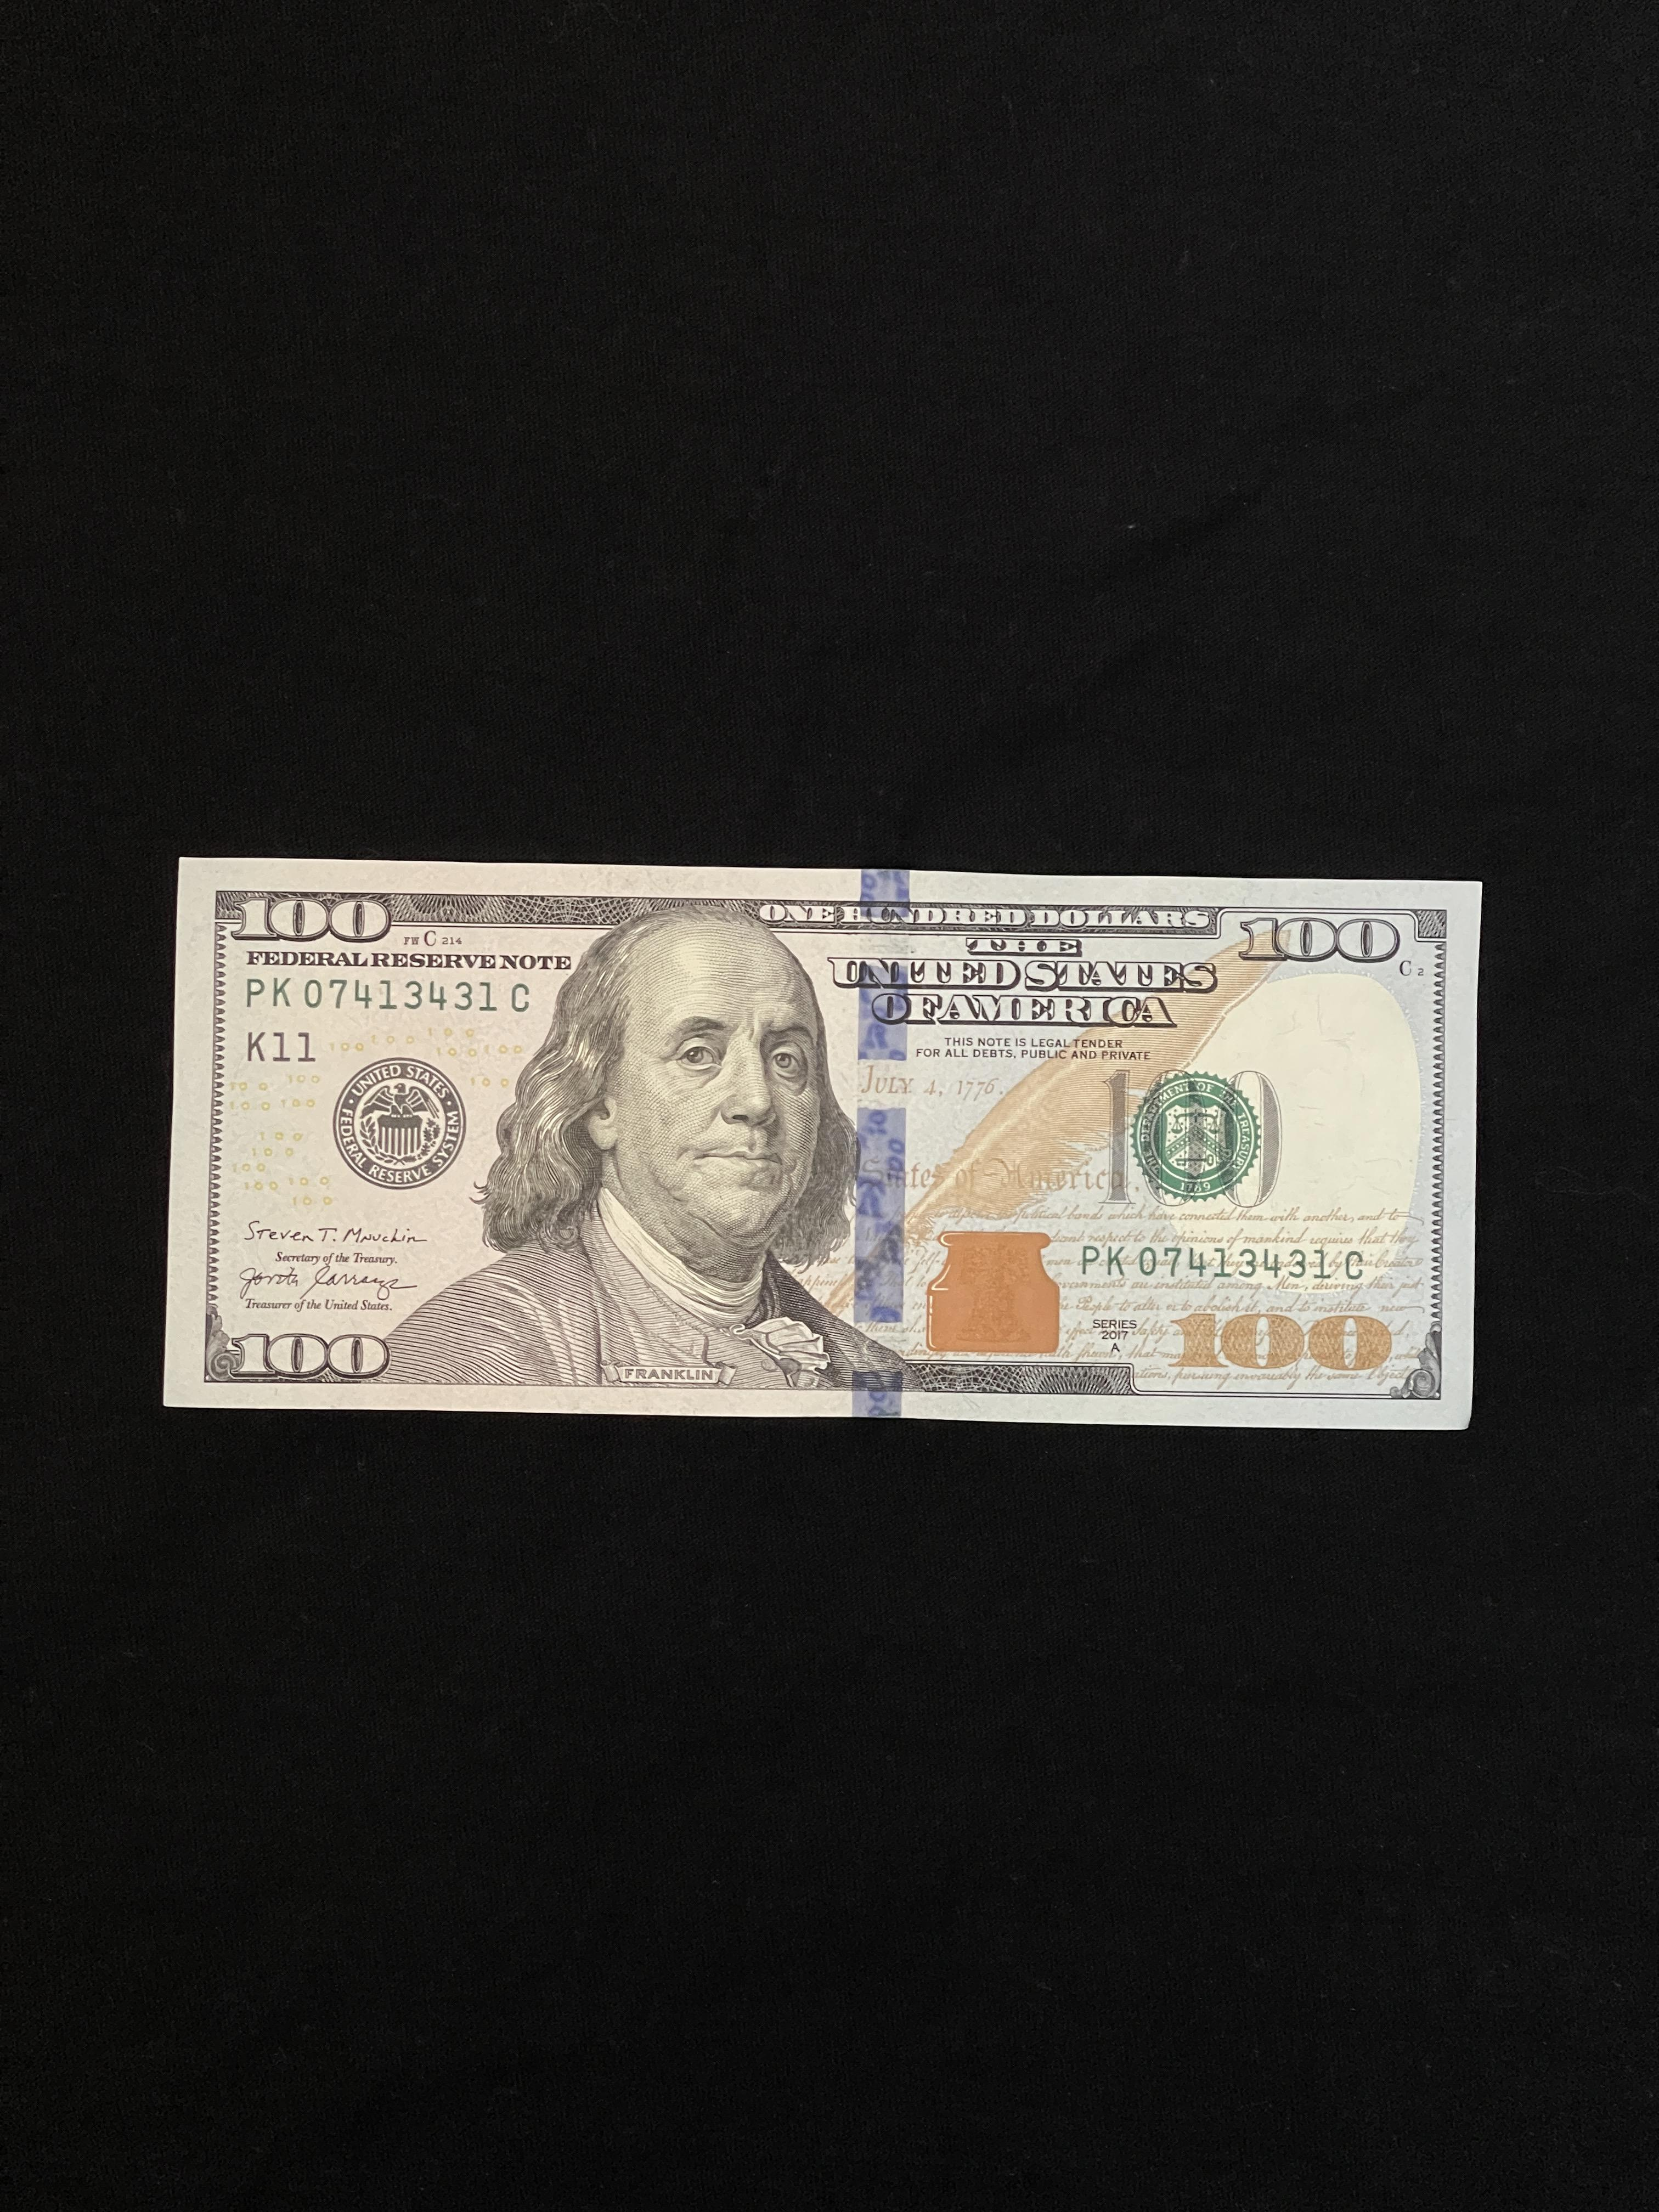HundredBill: (157, 852, 1486, 1435)
